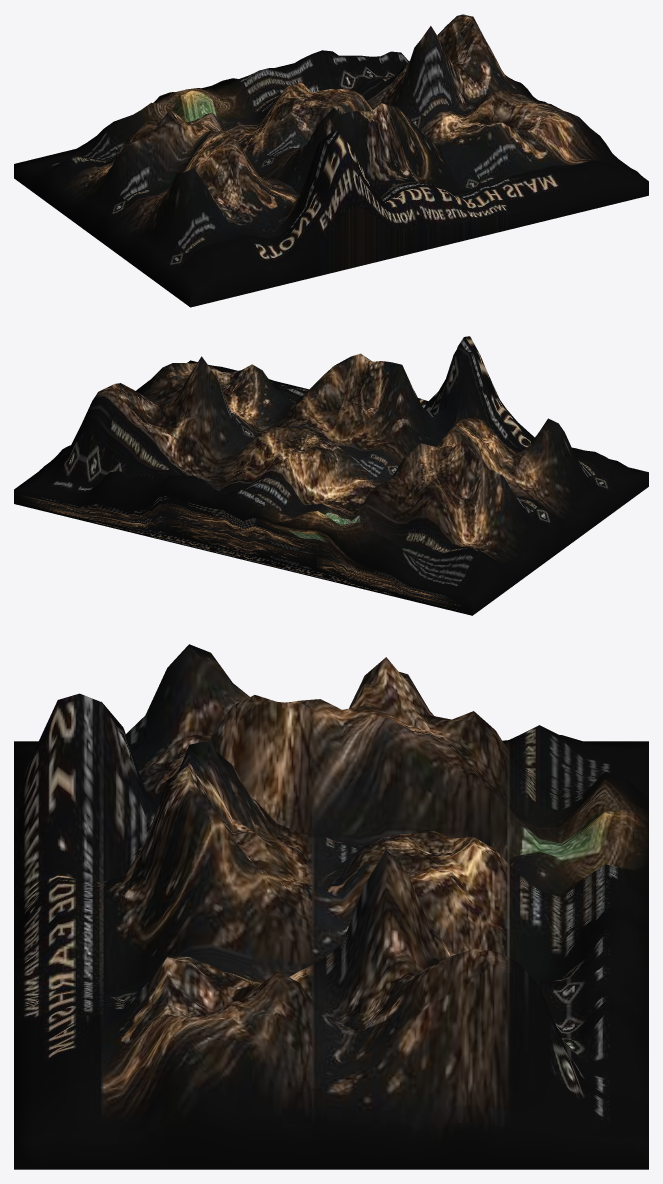
File: CUL_26_Earth.glb
The picture shows the model from 3 angles, top to bottom: view 1: azimuth 30°, elevation 25°; view 2: azimuth 150°, elevation 25°; view 3: azimuth 270°, elevation 25°; orthographic projection. The views are drawn at different scales.
Visible parts, largest first — view 1: CUL_26_Earth; view 2: CUL_26_Earth; view 3: CUL_26_Earth.
Part boxes in pixels (box(x1,y1,x2,y2)): CUL_26_Earth: box(14, 14, 648, 307); CUL_26_Earth: box(14, 336, 648, 615); CUL_26_Earth: box(14, 644, 648, 1169).
Bounding box in the file's own units: 2 × 0.51 × 1.33.
1 material, 1 textured.
